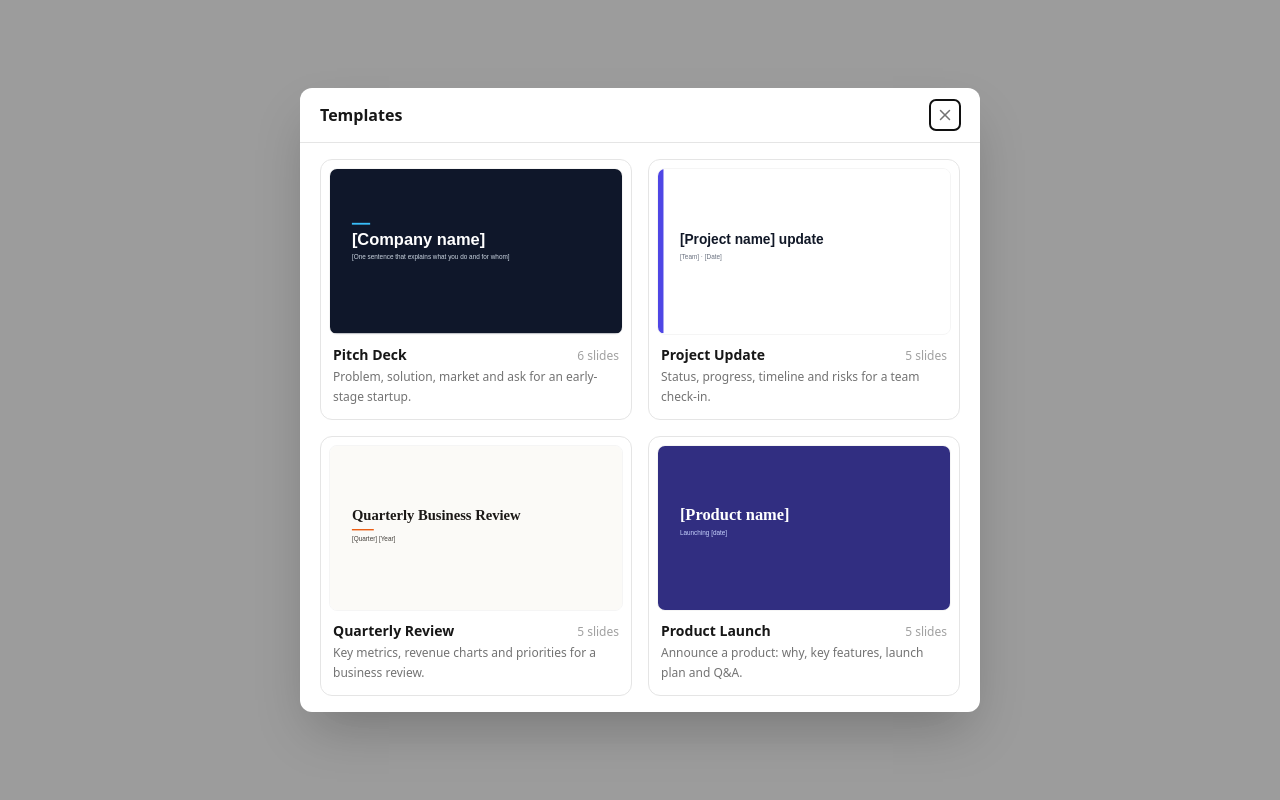
Test: TemplateGallery › uses singular wording for one slide
Click the button with aria-label "Product Launch template".
click(804, 566)  # box [648,436,960,696]
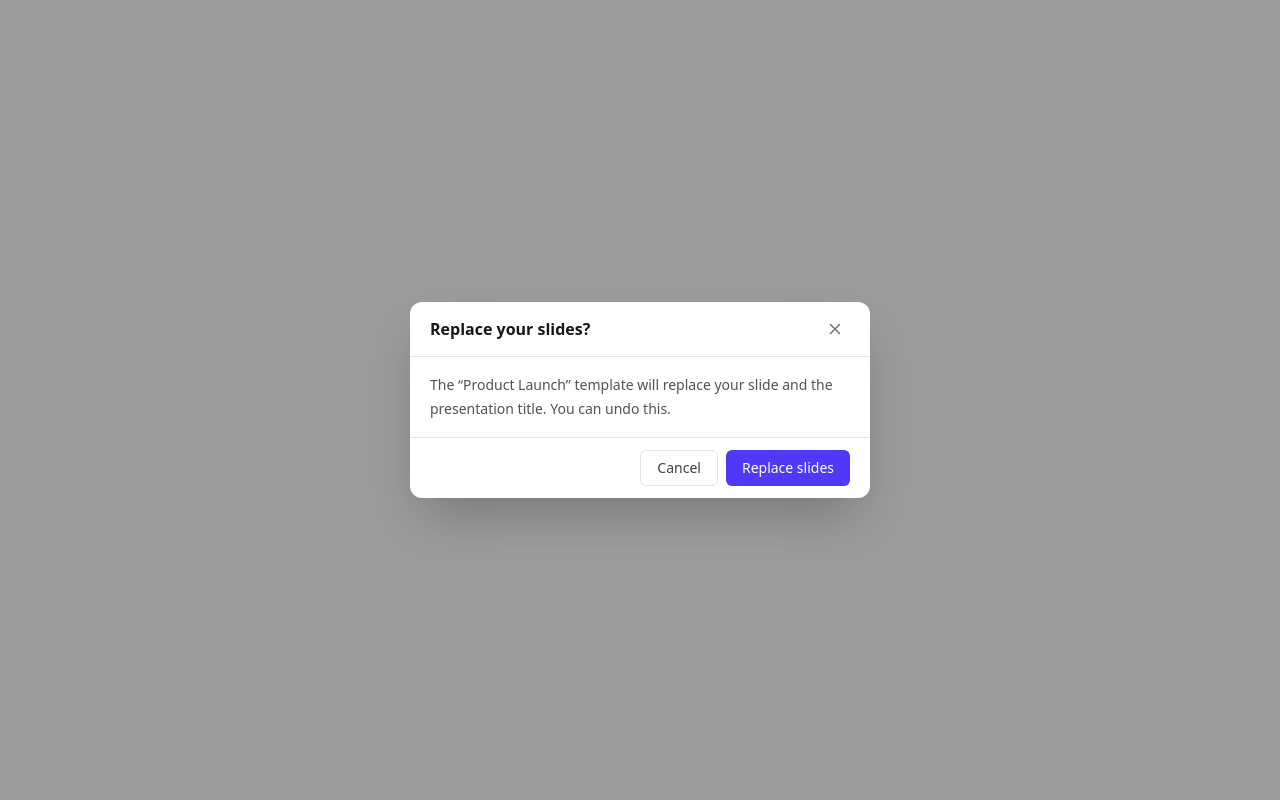
Check: the dialog "Replace your slides?" shows "replace your slide and", box [410,302,870,498]
